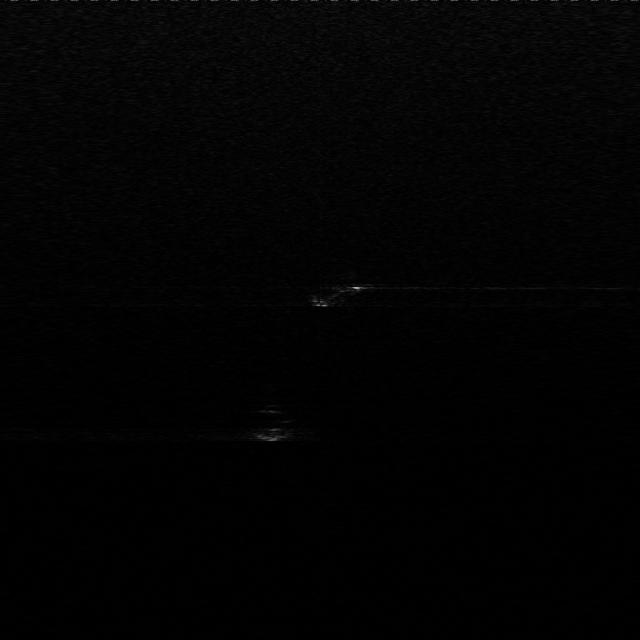ball: (240, 403, 306, 445)
tyre: (308, 262, 379, 313)
